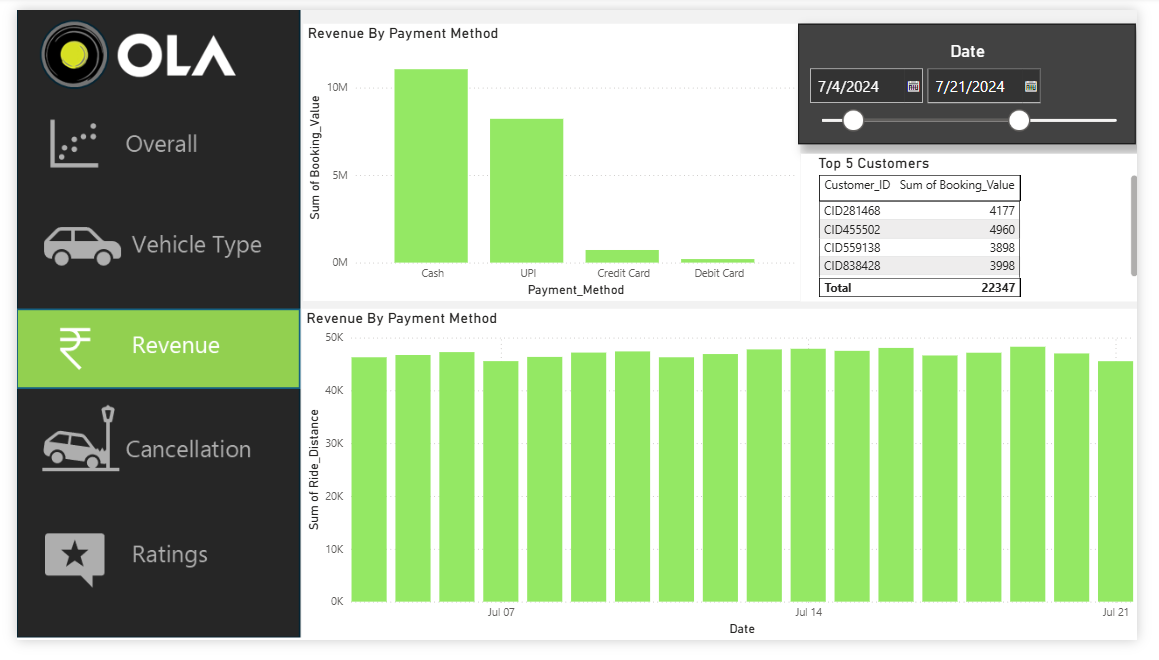

The page's visual inventory and layout, read from the dashboard file:
{"tool":"powerbi","page":{"name":"Revenue","canvas":[1280,720],"ordinal":2},"visuals":[{"type":"actionButton","box":[0,224.3,325.7,92.9],"z":0},{"type":"actionButton","box":[0,445.7,325.7,92.9],"z":1000},{"type":"actionButton","box":[0,577.1,325.7,92.9],"z":2000},{"type":"actionButton","box":[0,107.1,325.7,92.9],"z":3000},{"type":"columnChart","title":"Revenue By Payment Method","fields":{"Y":["Sum(July (2).Booking_Value)"],"Category":["July (2).Payment_Method"]},"box":[326.6,15.1,568.1,317],"z":4000},{"type":"columnChart","title":"Revenue By Payment Method","fields":{"Y":["Sum(July (2).Ride_Distance)"],"Category":["July (2).Date"]},"box":[325.2,341.7,955.1,378.7],"z":5000},{"type":"slicer","title":"Date","fields":{"Values":["July (2).Date"]},"box":[893,15.1,385.6,137.2],"z":6000},{"type":"tableEx","title":"Top 5 Customers","fields":{"Values":["July (2).Customer_ID","Sum(July (2).Booking_Value)"]},"box":[895,164.7,385.6,168.8],"z":7000}]}

Visuals, with their boxes in screenshot pixels (x1, y1, x2, y2), scaled from the page's 1280x720 canvas onto the 1159x660 screenshot:
actionButton: bbox(0, 206, 295, 291)
actionButton: bbox(0, 409, 295, 494)
actionButton: bbox(0, 529, 295, 614)
actionButton: bbox(0, 98, 295, 183)
"Revenue By Payment Method" columnChart: bbox(296, 14, 810, 304)
"Revenue By Payment Method" columnChart: bbox(294, 313, 1158, 659)
"Date" slicer: bbox(809, 14, 1158, 140)
"Top 5 Customers" tableEx: bbox(810, 151, 1158, 306)
